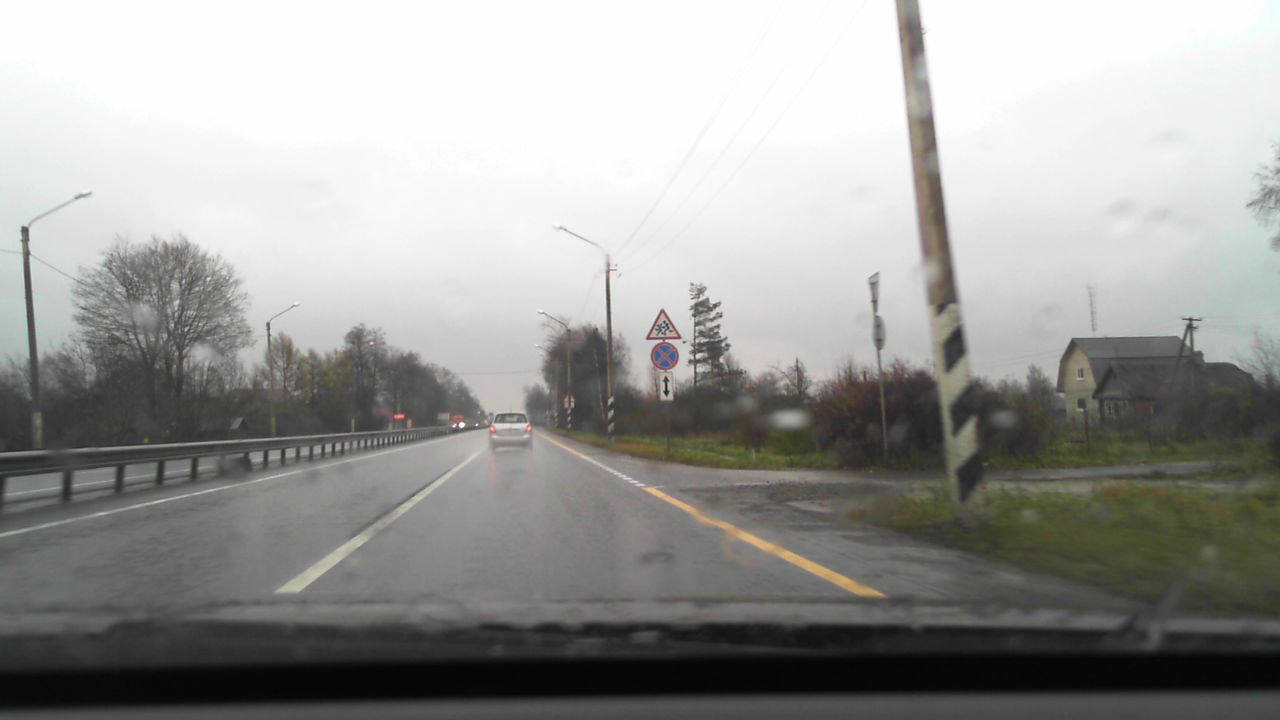No Parking: (650, 342, 678, 369)
